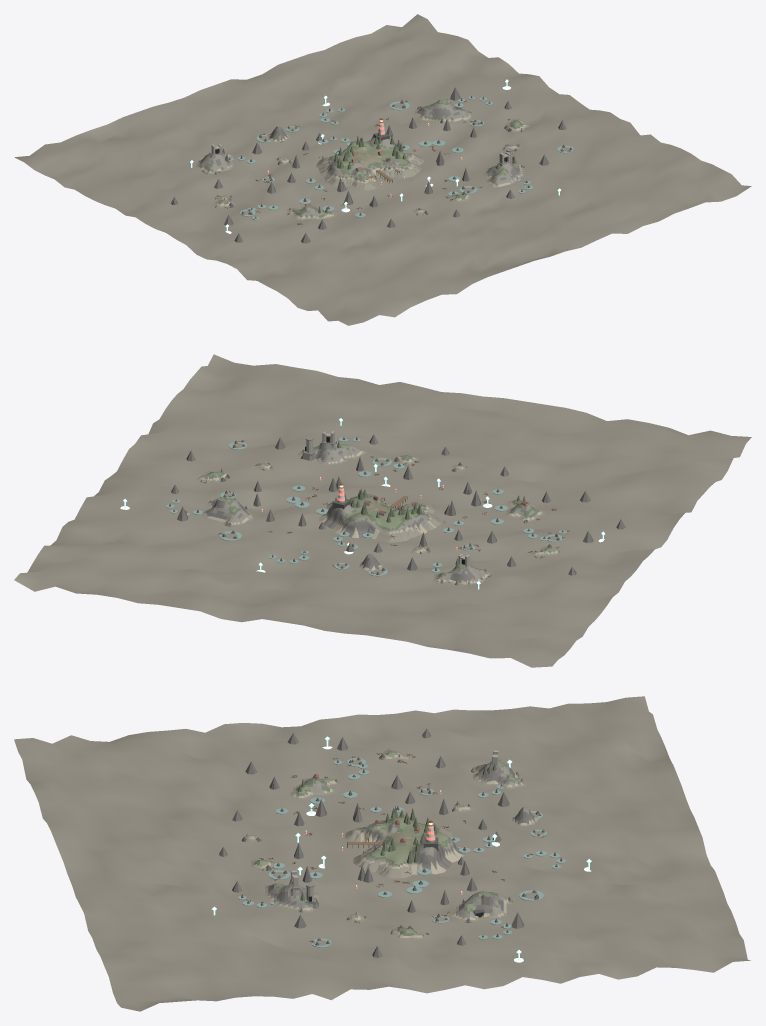
Rendered from LVL_Blokingv1.fbx.
3 renders of one model, top to bottom at view 1: azimuth 30°, elevation 25°; view 2: azimuth 150°, elevation 25°; view 3: azimuth 270°, elevation 25°, orthographic. The views are drawn at different scales.
Visible parts, largest first — view 1: TERR_main.001, TERR_main, GATE_3_30_1, TERR_ne_cave, ROCK_00, TERR_se_ruins, TERR_nw_ruins, TREE_000; view 2: TERR_main.001, TERR_main, GATE_3_30_1, ROCK_00, TERR_ne_cave, TERR_se_ruins, TERR_nw_ruins, TERR_sw_hut, TREE_000; view 3: TERR_main.001, TERR_main, GATE_3_30_1, ROCK_00, TERR_ne_cave, TERR_se_ruins, TERR_nw_ruins, TERR_sw_hut, TREE_000.
Boxes of the visible parts, x1,y1,x2,y2 form: TERR_main.001: (14,14,751,325); TERR_main: (282,137,423,190); GATE_3_30_1: (267,117,477,229); TERR_ne_cave: (413,98,472,122); ROCK_00: (170,87,566,243); TERR_se_ruins: (483,161,524,188); TERR_nw_ruins: (195,152,234,174); TREE_000: (334,128,406,169); TERR_main.001: (14,354,751,667); TERR_main: (319,494,441,553); GATE_3_30_1: (253,456,550,546); ROCK_00: (171,434,625,575); TERR_ne_cave: (201,497,254,526); TERR_se_ruins: (297,443,367,465); TERR_nw_ruins: (432,563,491,584); TERR_sw_hut: (504,499,545,522); TREE_000: (335,488,421,522); TERR_main.001: (14,696,750,1011); TERR_main: (345,807,472,878); GATE_3_30_1: (269,775,477,912); ROCK_00: (219,728,524,957); TERR_ne_cave: (450,891,512,921); TERR_se_ruins: (265,883,318,912); TERR_nw_ruins: (473,760,526,788); TERR_sw_hut: (290,778,338,799); TREE_000: (380,805,436,863).
Bounding box in the file's own units: 78960 × 5895 × 78960.
